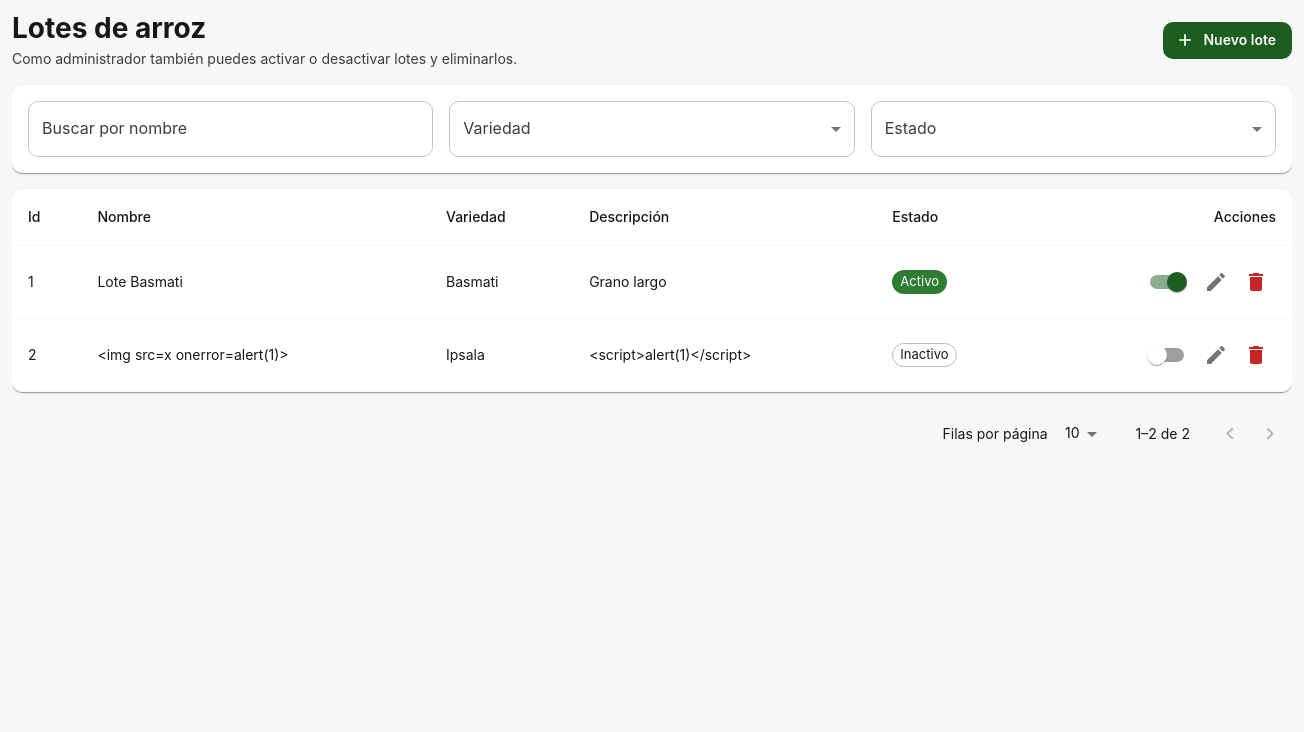
Test: PaginaProductos › CA-10.2 el ADMIN desactiva un lote con el interruptor y la fila se actualiza
Expected: the checkbox with test id "estado-2" is not checked, [1147,345,1167,365]
Click the checkbox with test id "estado-1" at (1177, 282), box [1167,272,1187,292]
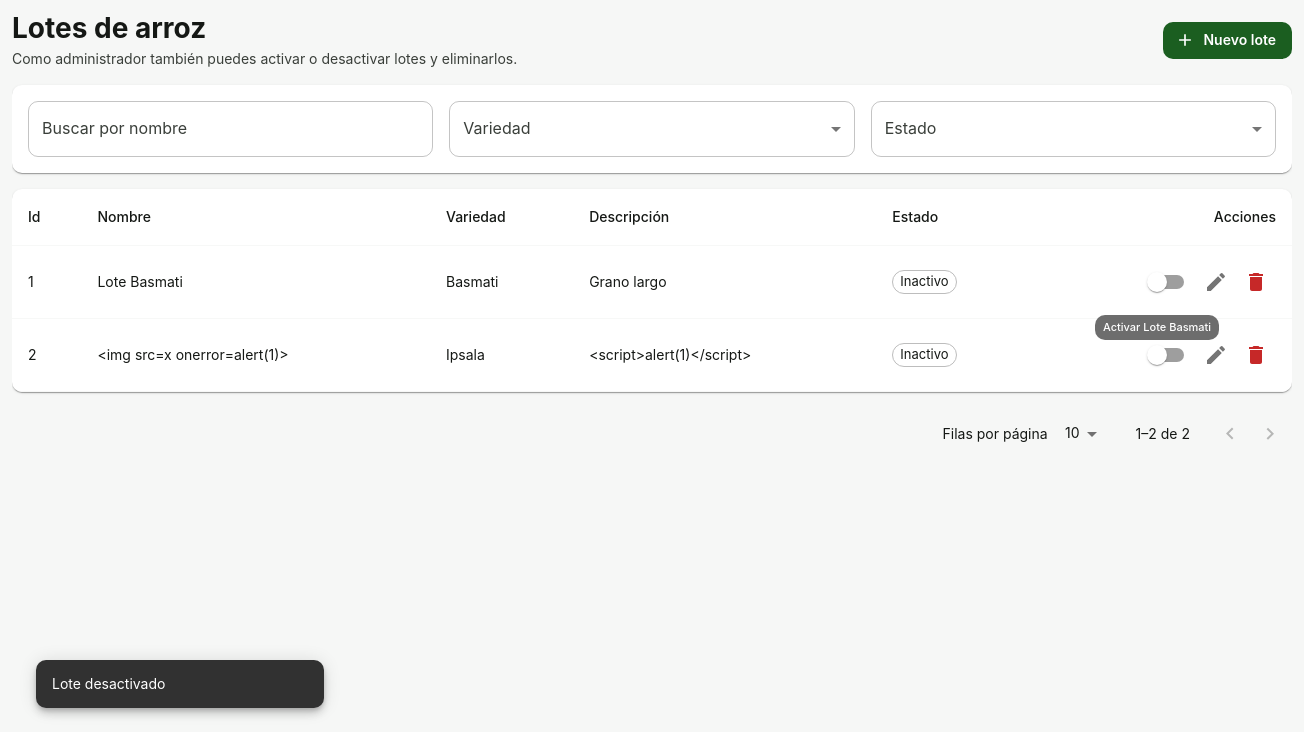
Result: the checkbox with test id "estado-1" is not checked at [1147,272,1167,292]
Result: the text "Lote desactivado" is shown at [52,675,165,692]
